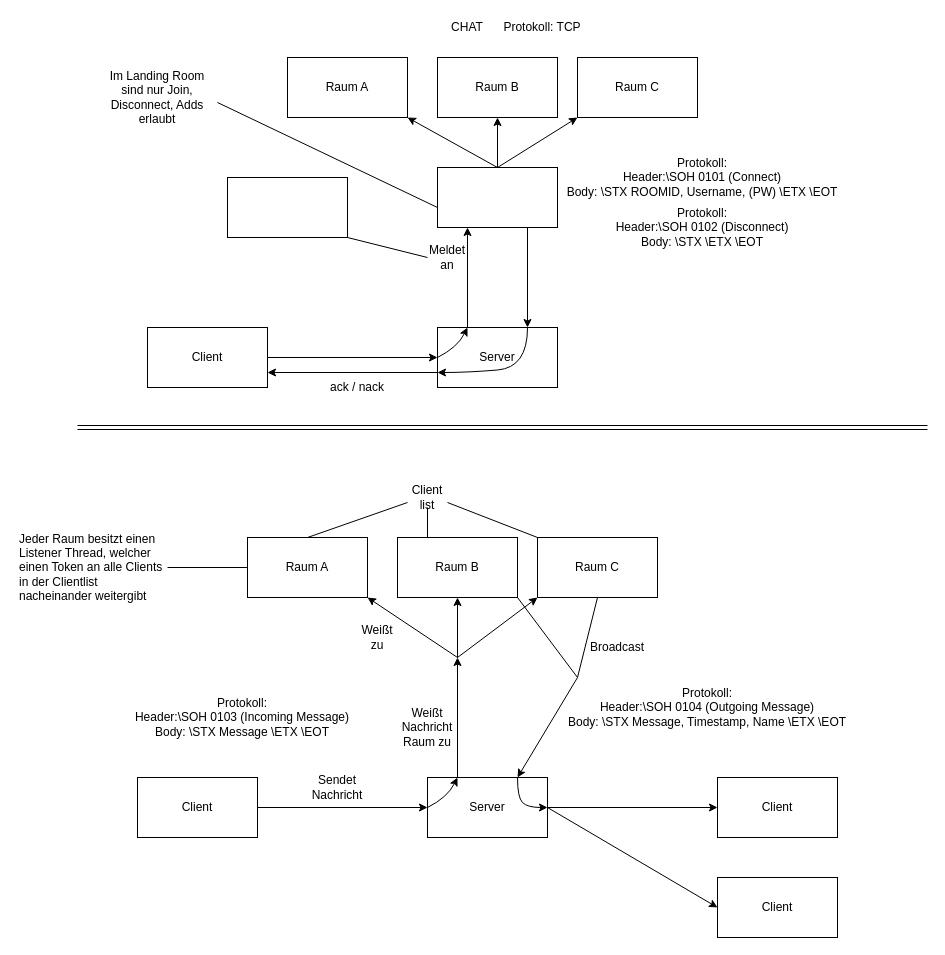
Some shapes in this 945 by 955 pixel diagram are drawn without their labels. Here are the shapes that lost their labels. From the top down, the box of each, then its label:
(226, 176, 348, 238): Server Thread accepts socket and adds to room
(436, 166, 558, 228): Landing Room
